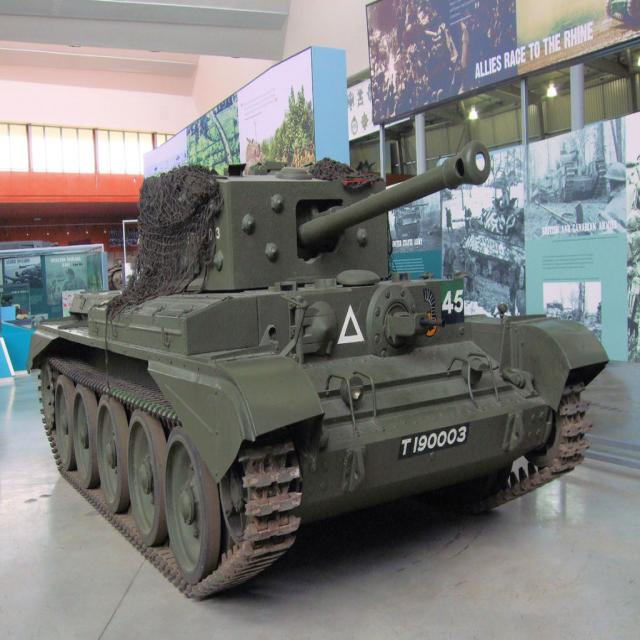tank: (25, 138, 608, 602), (450, 197, 528, 290), (544, 151, 624, 201)
